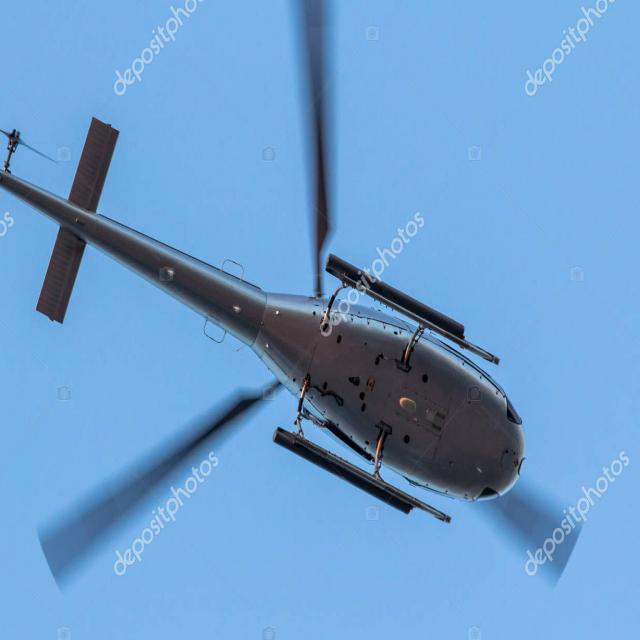helicopter: (1, 1, 582, 596)
